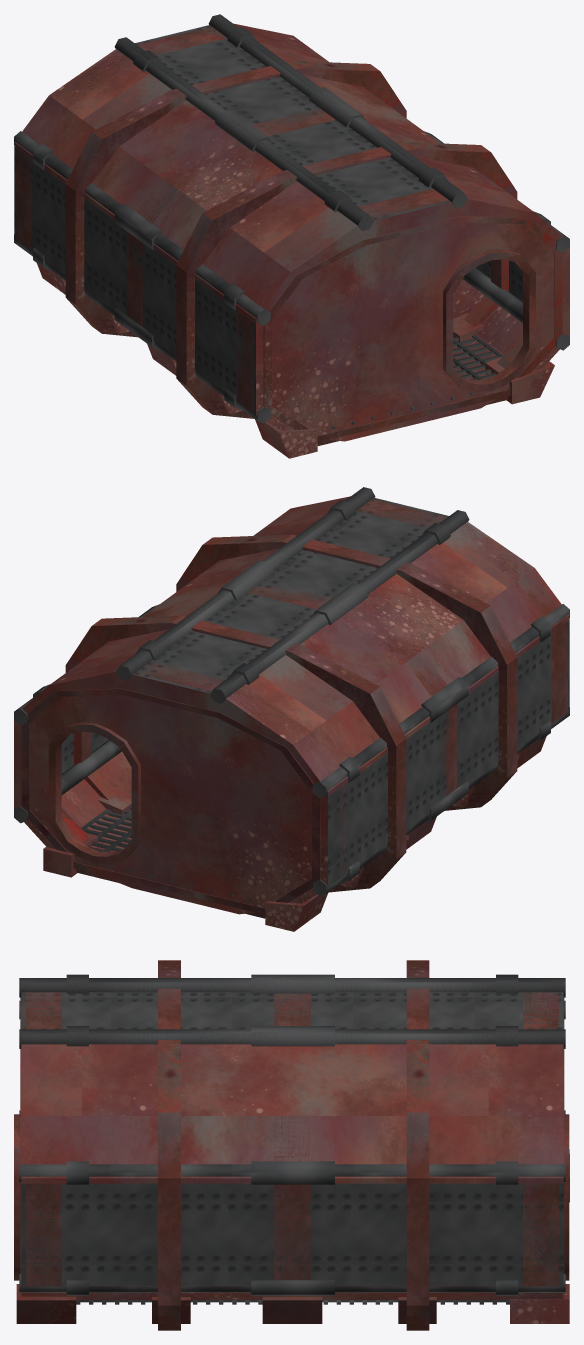
Rendered from Room.obj.
3 views of the same model, one above another, from view 1: azimuth 30°, elevation 25°; view 2: azimuth 150°, elevation 25°; view 3: azimuth 270°, elevation 25° (orthographic). The views are drawn at different scales.
Parts seen in each view (by area): view 1: Cube.011; view 2: Cube.011; view 3: Cube.011.
Boxes of the visible parts, x1=… form: Cube.011: x1=14, y1=14, x2=569, y2=458; Cube.011: x1=14, y1=487, x2=569, y2=931; Cube.011: x1=14, y1=960, x2=569, y2=1330.
Size of the model in its own units: 6.32 by 4.43 by 8.2.
Materials: 4 (4 with a texture image).
